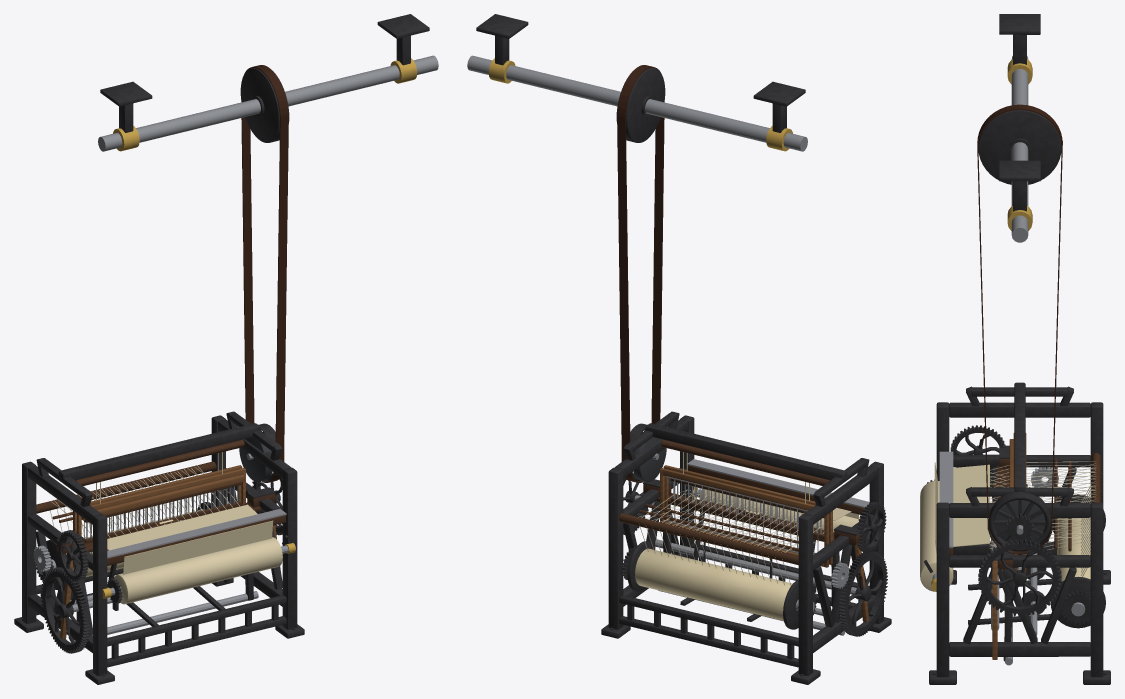
The model's file is power_loom.glb.
The picture shows the model from 3 angles, left to right: view 1: azimuth 30°, elevation 25°; view 2: azimuth 150°, elevation 25°; view 3: azimuth 270°, elevation 25°; orthographic projection. The views are drawn at different scales.
Parts seen in each view (by area): view 1: mrg_power_loom_iron, mrg_power_loom_steel, belt, mrg_power_loom_woodDark, crCloth, mrg_power_loom_wovenCloth, mrg_lgBig0_iron, mrg_heddle_wood, mrg_power_loom_wood, warpThreads, reed, mrg_lgMid0_iron (+2 smaller); view 2: mrg_power_loom_iron, mrg_power_loom_steel, mrg_power_loom_woodDark, belt, mrg_power_loom_canvas, mrg_heddle_wood, warpThreads, mrg_lgBig0_iron, mrg_heddle_steel, crCloth, mrg_lgMid0_iron, reed (+2 smaller); view 3: mrg_power_loom_iron, mrg_power_loom_steel, mrg_rgBig0_iron, mrg_power_loom_wovenCloth, pulley, belt, warpThreads, crCloth, mrg_power_loom_woodDark, mrg_power_loom_canvas, mrg_lgMid0_iron, mrg_power_loom_wood (+2 smaller).
Part boxes in pixels (box(x1,y1,x2,y2)): mrg_power_loom_iron: box(14, 14, 429, 684); mrg_power_loom_steel: box(33, 55, 438, 641); belt: box(241, 65, 288, 482); mrg_power_loom_woodDark: box(36, 439, 285, 565); crCloth: box(114, 537, 282, 604); mrg_power_loom_wovenCloth: box(107, 504, 273, 574); mrg_lgBig0_iron: box(41, 567, 90, 653); mrg_heddle_wood: box(73, 465, 245, 554); mrg_power_loom_wood: box(59, 474, 280, 638); warpThreads: box(50, 465, 239, 538); reed: box(86, 486, 238, 539); mrg_lgMid0_iron: box(58, 530, 88, 581); mrg_power_loom_iron: box(476, 14, 891, 684); mrg_power_loom_steel: box(467, 55, 869, 635); mrg_power_loom_woodDark: box(619, 439, 864, 565); belt: box(617, 65, 664, 482); mrg_power_loom_canvas: box(635, 452, 809, 620); mrg_heddle_wood: box(660, 465, 832, 567); warpThreads: box(638, 489, 833, 585); mrg_lgBig0_iron: box(839, 551, 887, 636); mrg_heddle_steel: box(665, 476, 818, 553); crCloth: box(700, 489, 860, 532); mrg_lgMid0_iron: box(856, 502, 886, 552); reed: box(673, 481, 821, 534); mrg_power_loom_iron: box(924, 14, 1110, 684); mrg_power_loom_steel: box(939, 56, 1085, 665); mrg_rgBig0_iron: box(978, 539, 1061, 616); mrg_power_loom_wovenCloth: box(934, 462, 989, 552); pulley: box(988, 492, 1051, 553); belt: box(977, 104, 1062, 554); warpThreads: box(989, 461, 1096, 577); crCloth: box(920, 481, 953, 591); mrg_power_loom_woodDark: box(949, 453, 1101, 569); mrg_power_loom_canvas: box(1057, 517, 1090, 581); mrg_lgMid0_iron: box(950, 425, 1005, 471); mrg_power_loom_wood: box(992, 439, 1013, 659).
Size of the model in its own units: 3.47 by 4.7 by 1.38.
10 materials, 6 textured.
